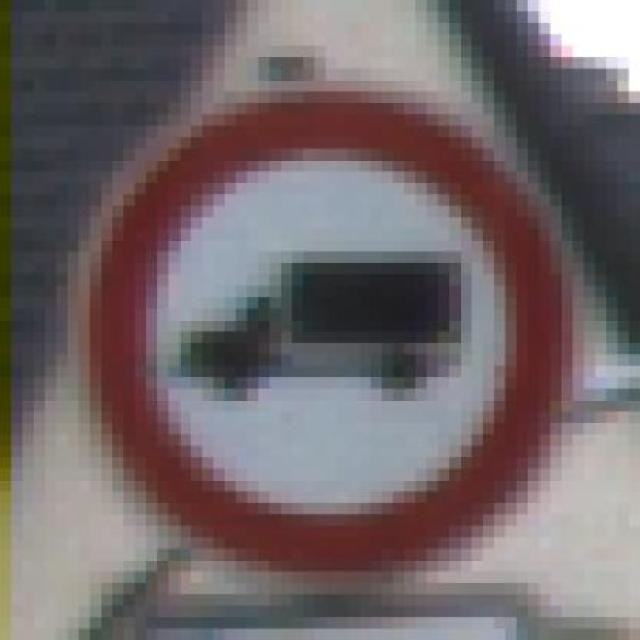Truck traffic is prohibited: (55, 46, 596, 583)
